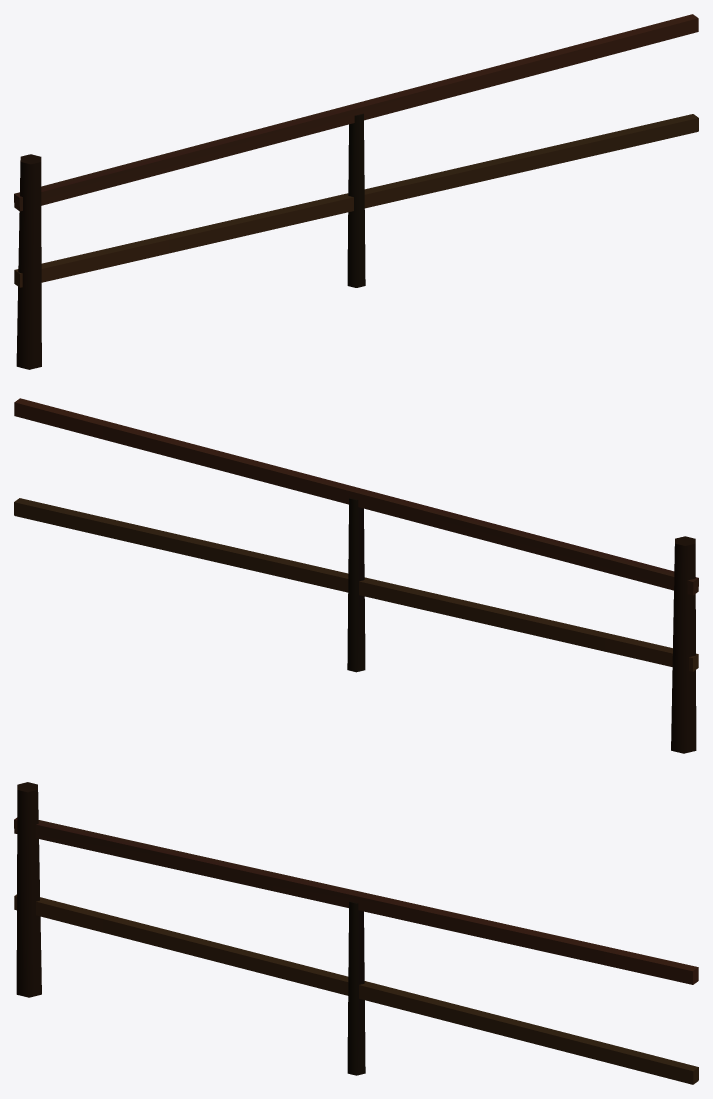
File: fm_fence.glb
3 views of the same model, one above another, from view 1: azimuth 30°, elevation 25°; view 2: azimuth 150°, elevation 25°; view 3: azimuth 330°, elevation 25° (orthographic).
Parts seen in each view (by area): view 1: fm_fence; view 2: fm_fence; view 3: fm_fence.
Boxes of the visible parts, x1,y1,x2,y2 form: fm_fence: [14, 14, 698, 369]; fm_fence: [14, 398, 698, 753]; fm_fence: [14, 782, 698, 1084].
Size of the model in its own units: 4.15 by 1.2 by 0.138.
